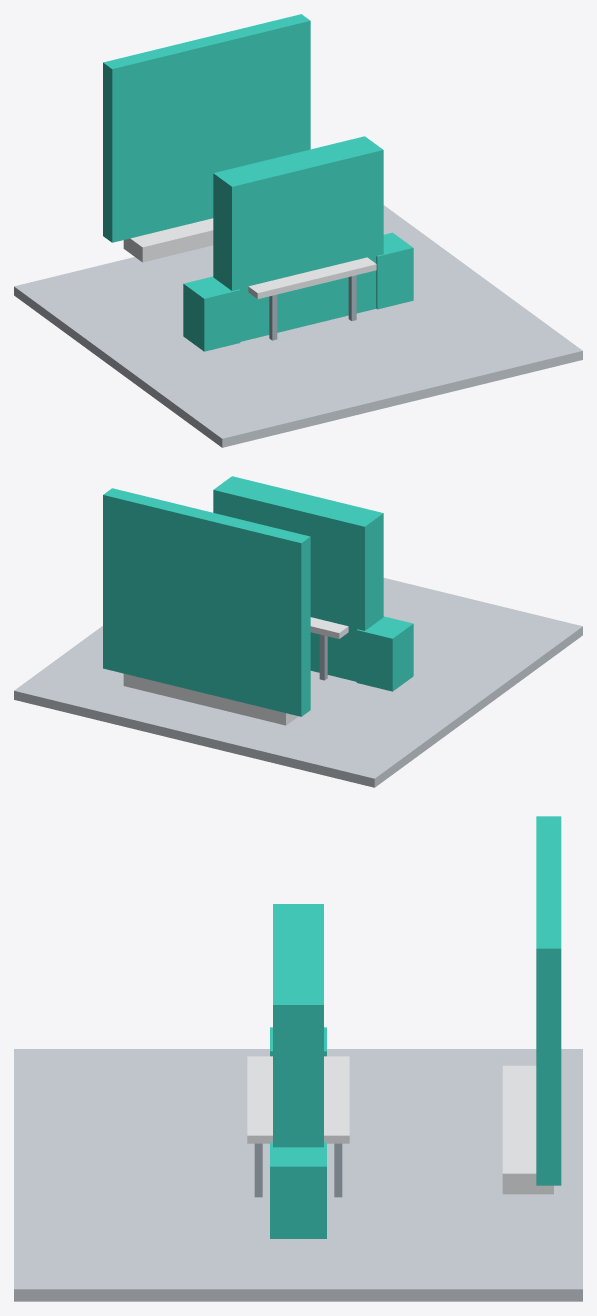
The picture shows the model from 3 angles, top to bottom: view 1: azimuth 30°, elevation 25°; view 2: azimuth 150°, elevation 25°; view 3: azimuth 270°, elevation 25°; orthographic projection. The views are drawn at different scales.
Visible parts, largest first — view 1: Exhibition Booth Concept; view 2: Exhibition Booth Concept; view 3: Exhibition Booth Concept.
Boxes of the visible parts, x1,y1,x2,y2 form: Exhibition Booth Concept: (14,14,582,447); Exhibition Booth Concept: (14,476,582,787); Exhibition Booth Concept: (14,816,582,1301).
Size of the model in its own units: 5 by 2.9 by 5.
